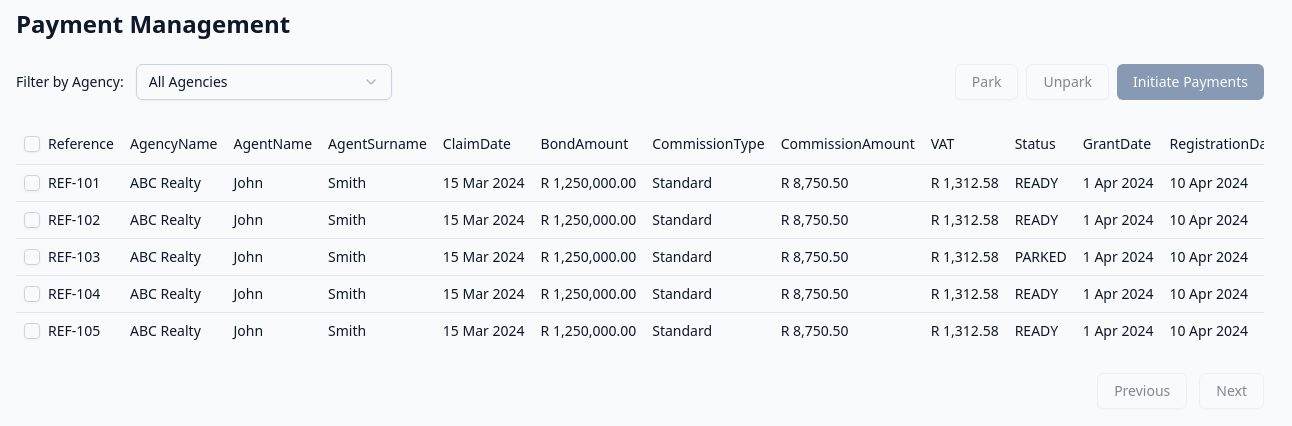
it: Header checkbox indeterminate state for partial selection (AC-5) › shows aria-checked="mixed" on the header checkbox when only some rows are selected
The image size is (1292, 426).
Click the checkbox named "select payment" at point(32, 182), box [24, 174, 40, 190]
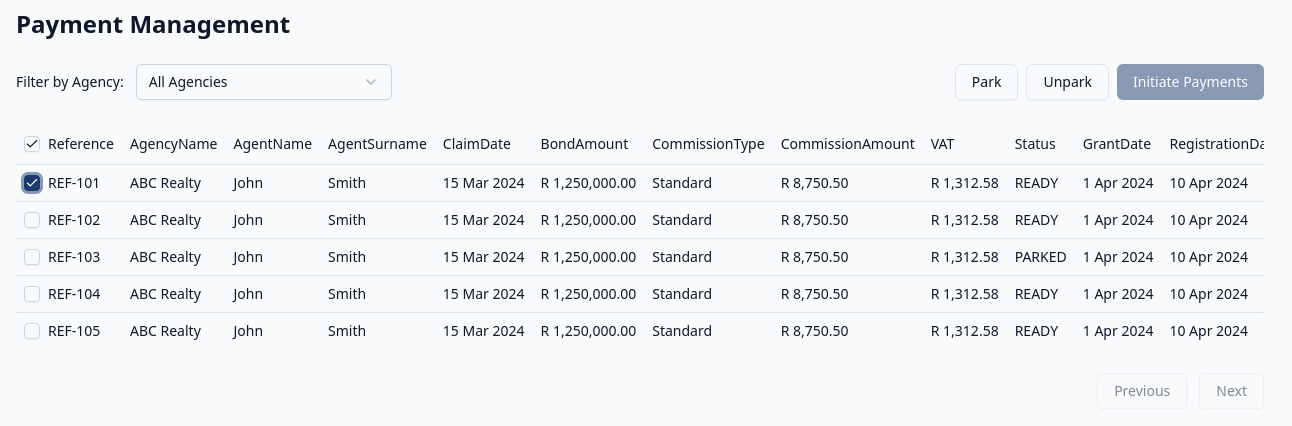
expect the button "Park" is enabled: met, box [955, 64, 1018, 100]
expect the button "Unpark" is enabled: met, box [1026, 64, 1109, 100]
